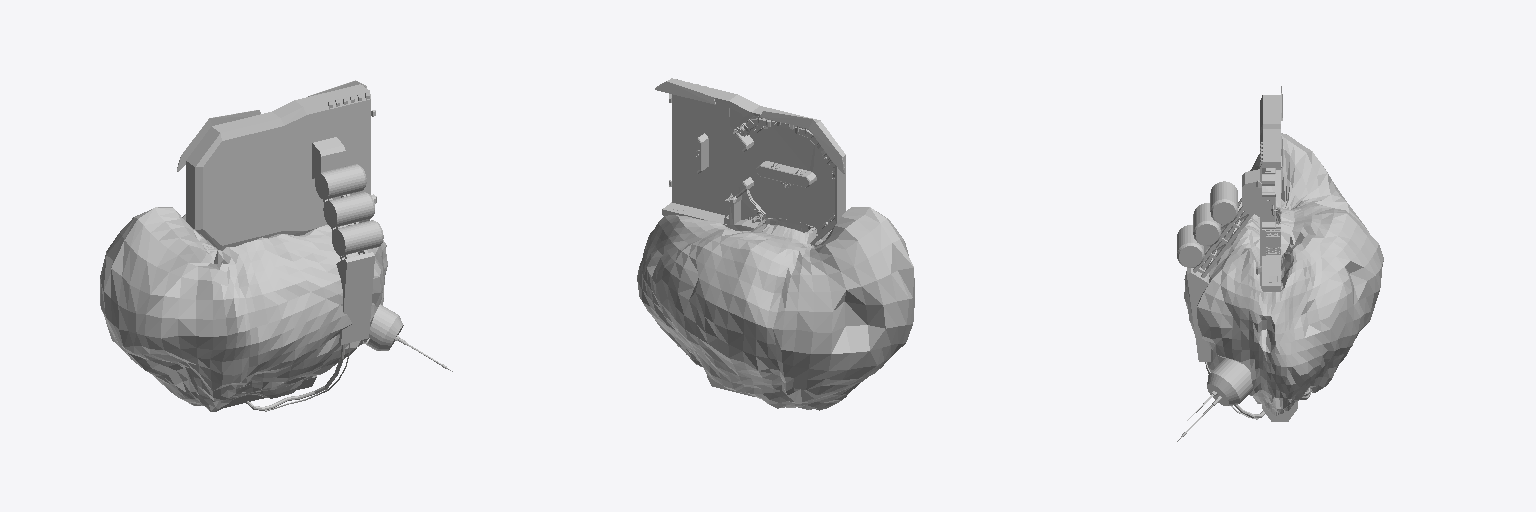
Rendered from mining_01-myori.obj.
The picture shows the model from 3 angles: view 1: azimuth 30°, elevation 25°; view 2: azimuth 150°, elevation 25°; view 3: azimuth 270°, elevation 25°; orthographic projection.
Visible parts, largest first — view 1: Cube_Cube_asteroid_Material.001; view 2: Cube_Cube_asteroid_Material.001; view 3: Cube_Cube_asteroid_Material.001.
Boxes of the visible parts, box(x1,y1,x2,y2) form: Cube_Cube_asteroid_Material.001: box(100, 80, 452, 411); Cube_Cube_asteroid_Material.001: box(637, 78, 914, 410); Cube_Cube_asteroid_Material.001: box(1177, 86, 1383, 441).
Size of the model in its own units: 59.76 by 58.6 by 36.54.